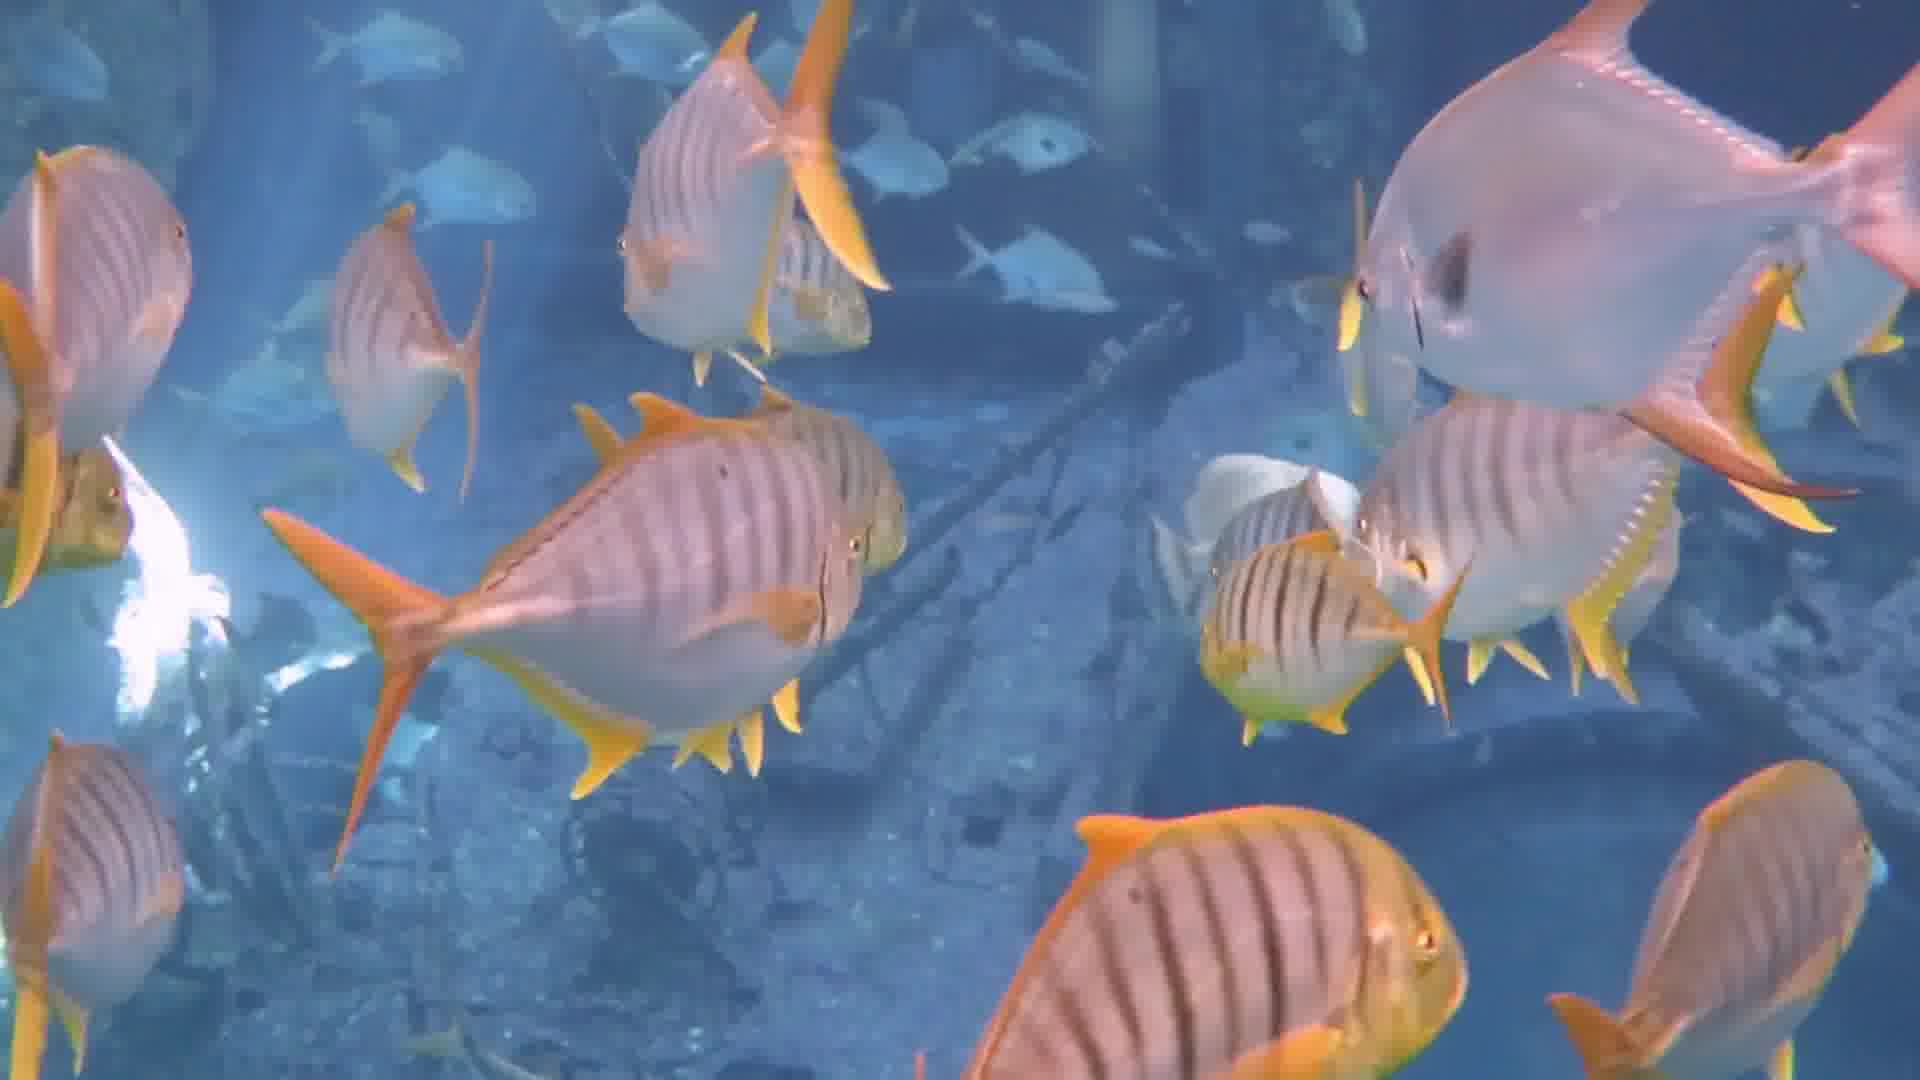Gnathanodon speciosus: (363, 455, 852, 855), (993, 803, 1495, 1068), (1, 145, 189, 538), (1184, 559, 1458, 735)
